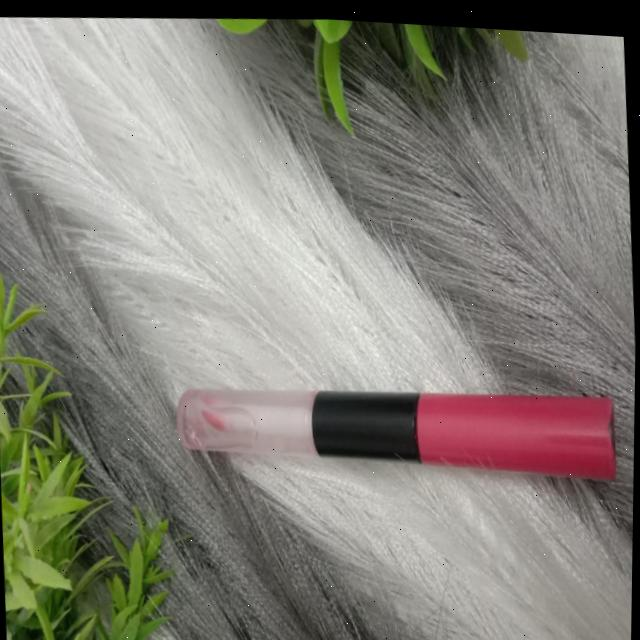lip gloss: (152, 327, 636, 522)
